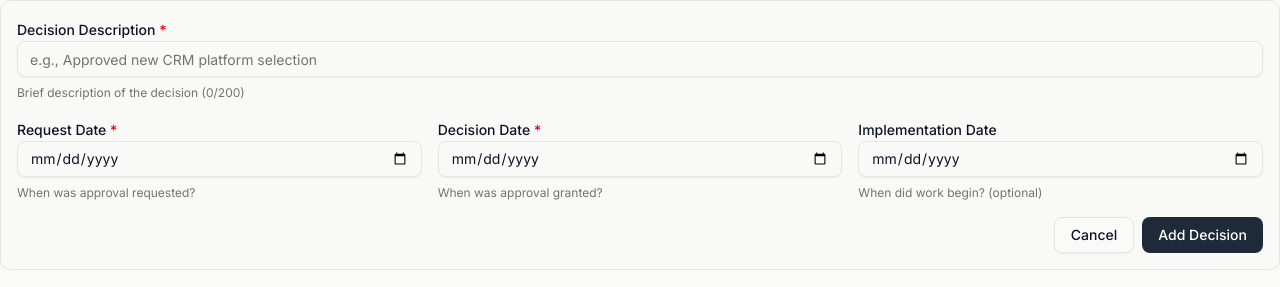
Test: DecisionSampleForm › character count › displays character count
Expected: the text "Brief description of the decision (0/200)" is shown, [17, 85, 245, 100]
Type "Test" into the field labelled "Decision Description *". click: (640, 59)
box: [17, 41, 1263, 77]
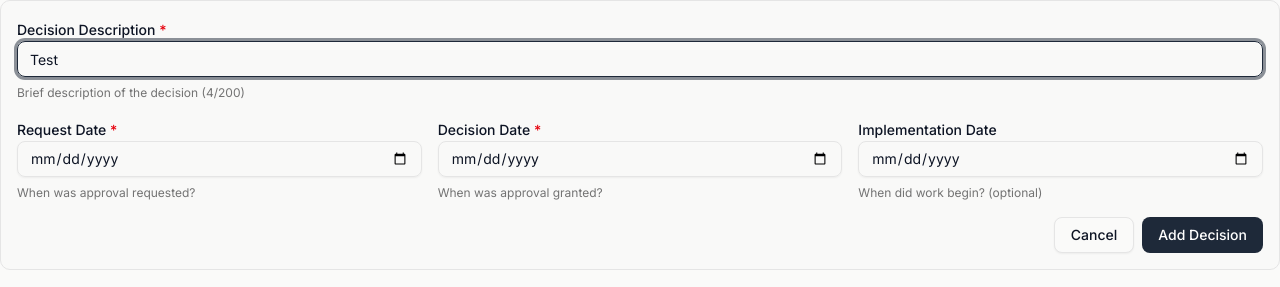
Now the text "Brief description of the decision (4/200)" is shown, box [17, 85, 245, 100]
